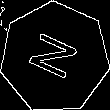N_SE: (24, 29, 85, 86)
